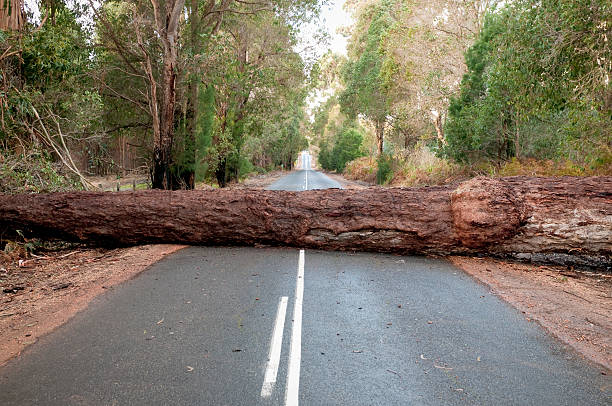obstacle: (1, 174, 612, 257)
